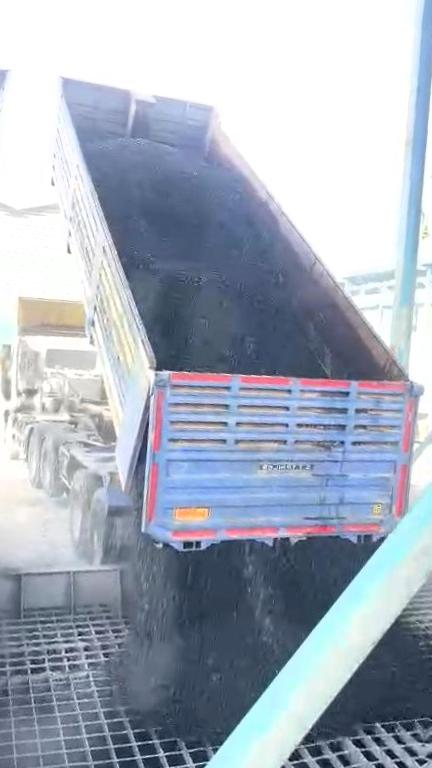gravel: (88, 140, 333, 376), (123, 531, 368, 736), (312, 618, 432, 739)
